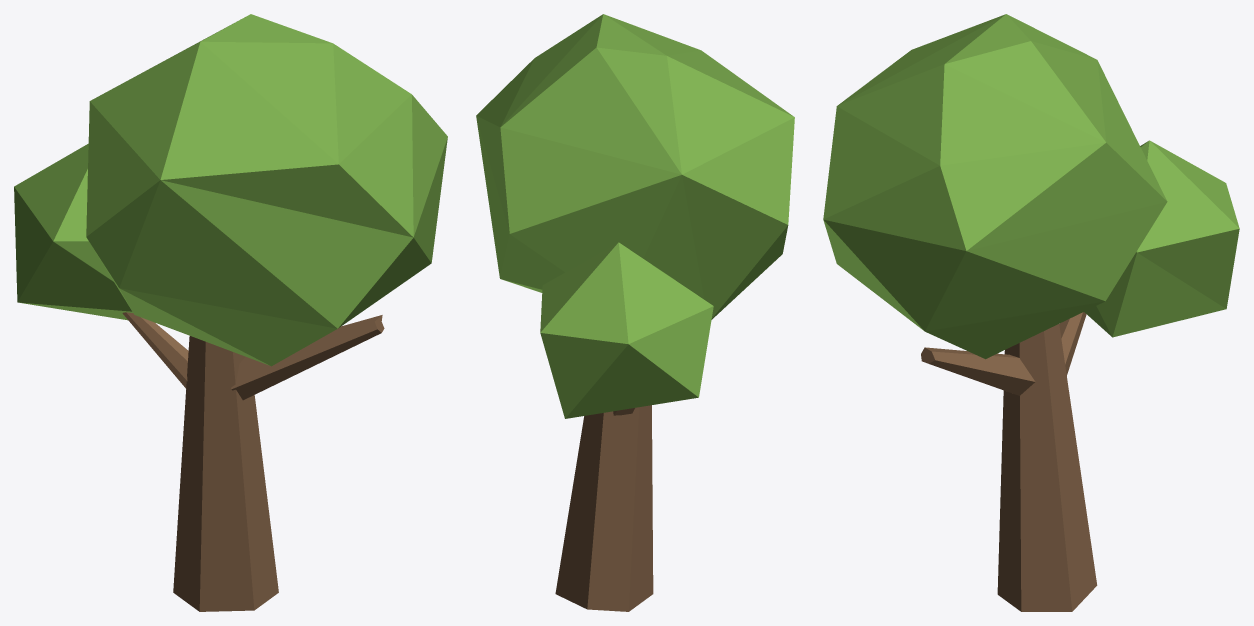
Rendered from deciduous2.fbx.
3 views of the same model, side by side, from view 1: azimuth 30°, elevation 25°; view 2: azimuth 150°, elevation 25°; view 3: azimuth 270°, elevation 25° (orthographic). The views are drawn at different scales.
Visible parts, largest first — view 1: leaf_big, trunk, leaf_smol; view 2: leaf_big, leaf_smol, trunk; view 3: leaf_big, trunk, leaf_smol.
Boxes of the visible parts, x1,y1,x2,y2 form: leaf_big: (86, 14, 447, 366); trunk: (122, 312, 384, 611); leaf_smol: (14, 143, 132, 320); leaf_big: (476, 14, 794, 319); leaf_smol: (540, 242, 713, 418); trunk: (555, 405, 653, 611); leaf_big: (823, 14, 1167, 359); trunk: (921, 312, 1097, 611); leaf_smol: (1084, 140, 1239, 337).
Bounding box in the file's own units: 234 × 371 × 250.
